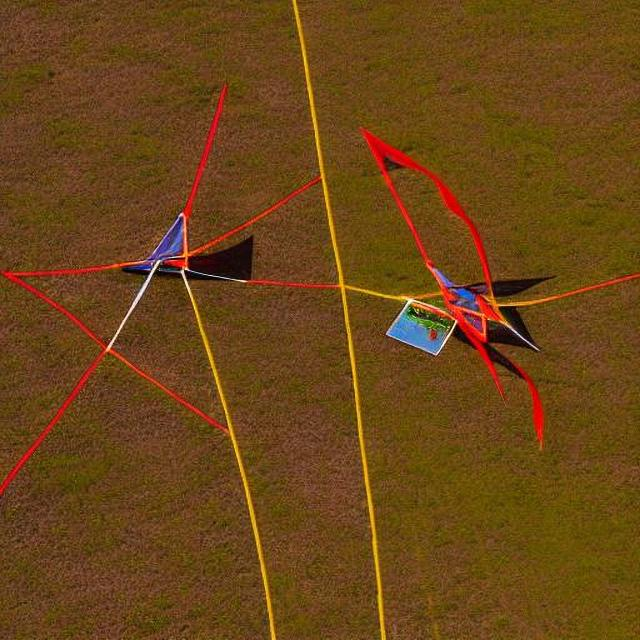floating object: (361, 114, 545, 439), (130, 78, 231, 285), (384, 298, 450, 356)
